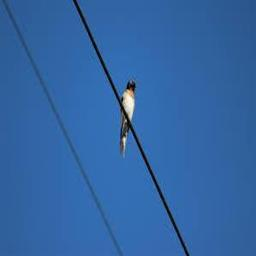Swallow: (118, 80, 136, 157)
